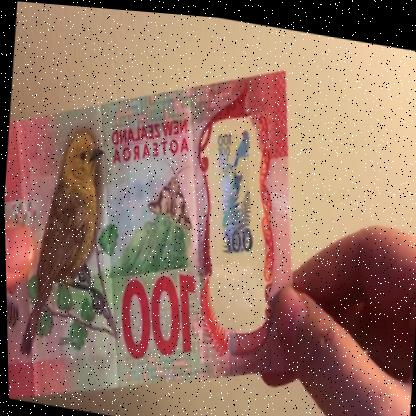100B: (201, 113, 269, 309)
